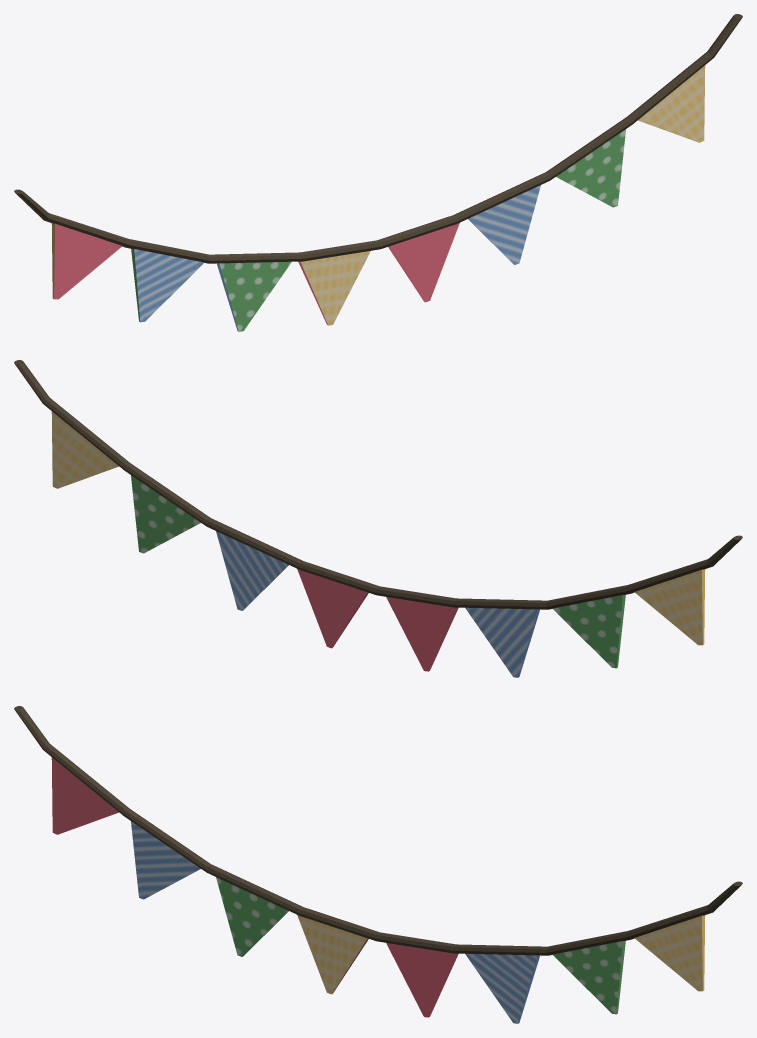
File: garland.fbx
3 views of the same model, one above another, from view 1: azimuth 30°, elevation 25°; view 2: azimuth 150°, elevation 25°; view 3: azimuth 330°, elevation 25° (orthographic).
Visible parts, largest first — view 1: Garland; view 2: Garland; view 3: Garland.
Part boxes in pixels (x1,y1,x2,y2): Garland: (14,14,742,331); Garland: (14,360,742,677); Garland: (14,706,742,1023).
Bounding box in the file's own units: 0.731 × 0.201 × 0.00973.
Materials: 1 (1 with a texture image).
